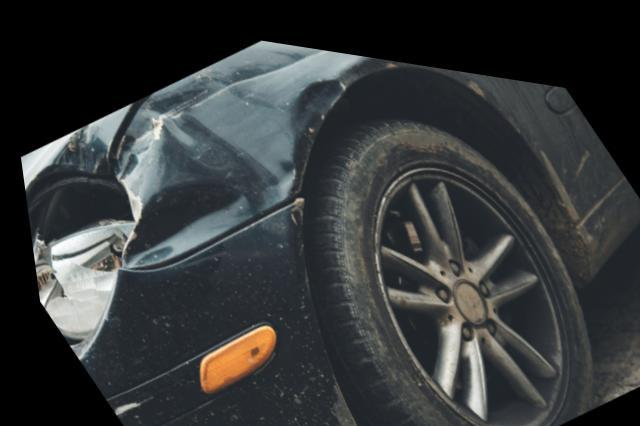dent: (113, 32, 343, 267)
lamp broken: (23, 176, 131, 338)
scratch: (101, 392, 142, 416)
